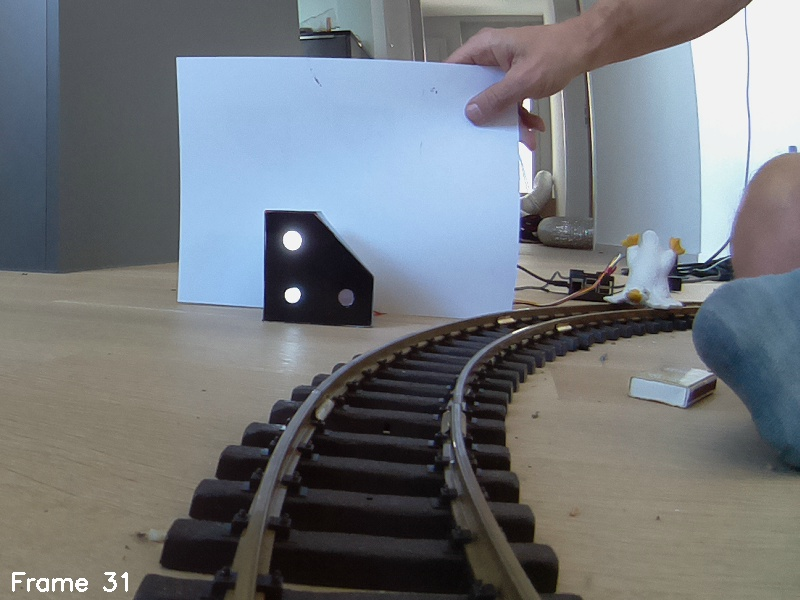Fahrt: (261, 209, 375, 330)
